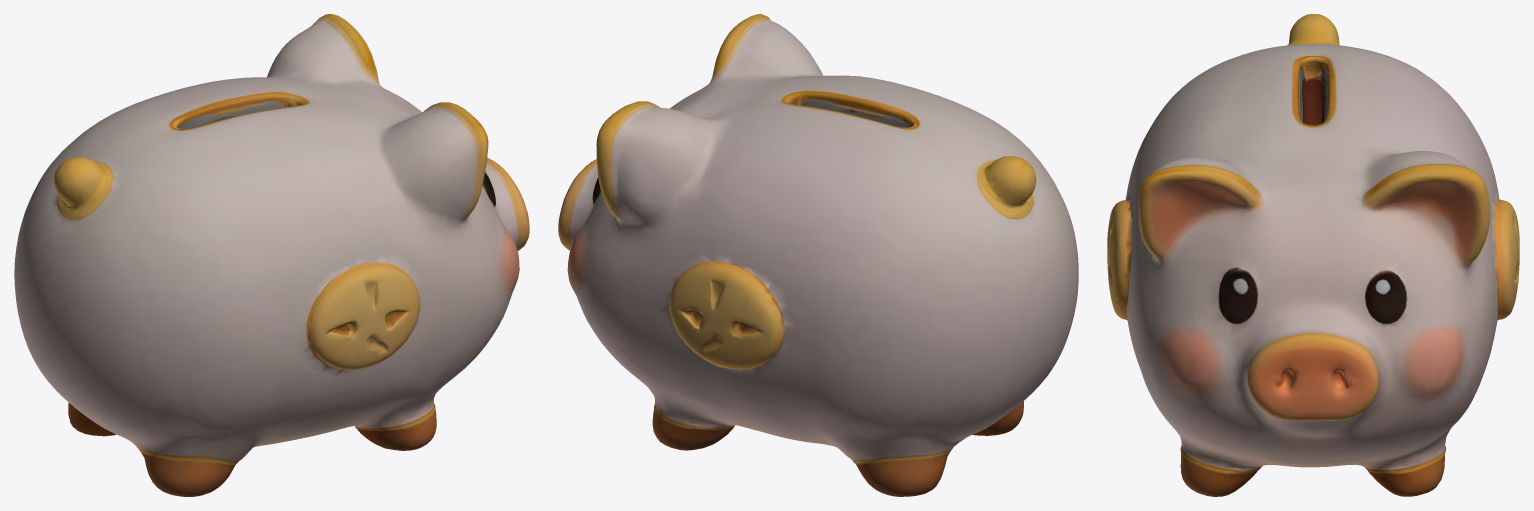
File: au_perm_au_piggy_bank.glb
3 renders of one model, left to right at view 1: azimuth 30°, elevation 25°; view 2: azimuth 150°, elevation 25°; view 3: azimuth 270°, elevation 25°, orthographic. The views are drawn at different scales.
Visible parts, largest first — view 1: tripo_node_fdbe9fda-1c08-493e-a98c-4dce266cc8bf; view 2: tripo_node_fdbe9fda-1c08-493e-a98c-4dce266cc8bf; view 3: tripo_node_fdbe9fda-1c08-493e-a98c-4dce266cc8bf.
Boxes of the visible parts, left/top/right/bottom form: tripo_node_fdbe9fda-1c08-493e-a98c-4dce266cc8bf: left=14, top=14, right=529, bottom=496; tripo_node_fdbe9fda-1c08-493e-a98c-4dce266cc8bf: left=558, top=14, right=1078, bottom=496; tripo_node_fdbe9fda-1c08-493e-a98c-4dce266cc8bf: left=1107, top=14, right=1519, bottom=496.
Size of the model in its own units: 0.2226 by 0.15 by 0.163.
Materials: 1 (1 with a texture image).
